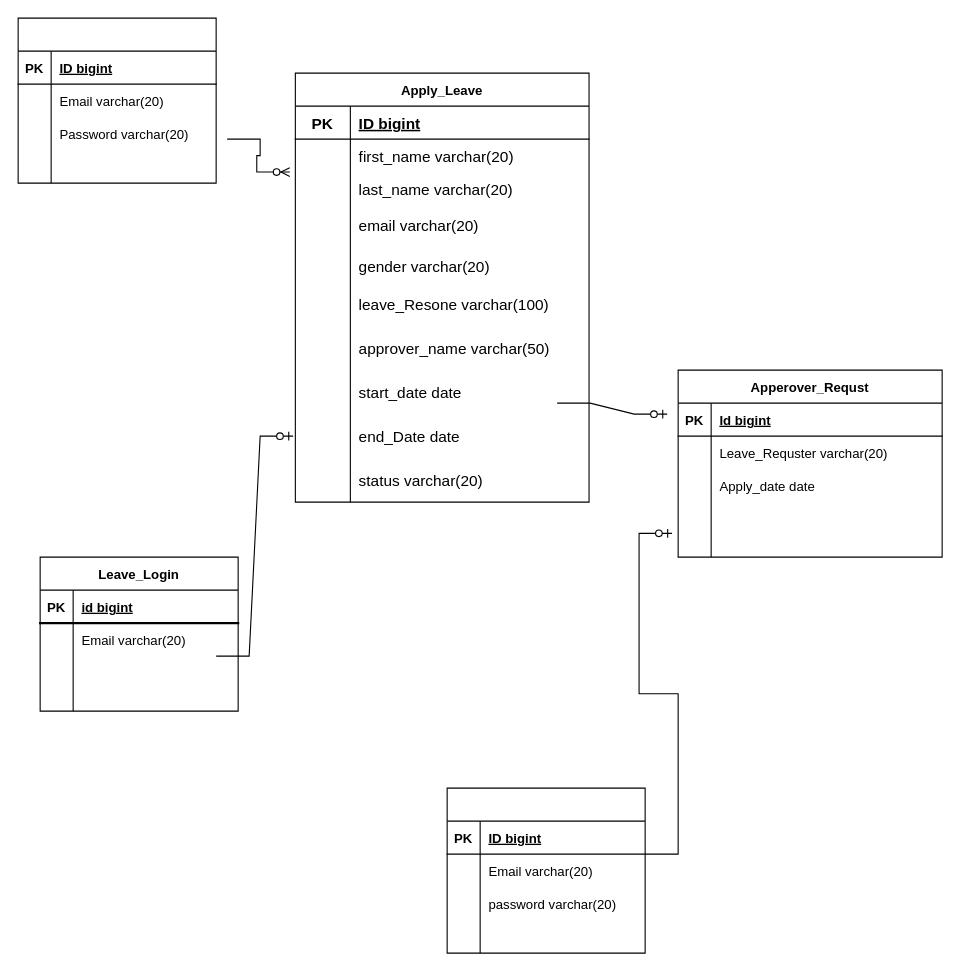
Image size: 960x971. Some labels were removed from this diagram. The shapes that lost their labels are listed below. From the top down, each one's box as (x1, y1, x2, y2) in pixels, then its label:
(17, 17, 216, 183): Admin_Login
(446, 787, 645, 953): Approver_Login
